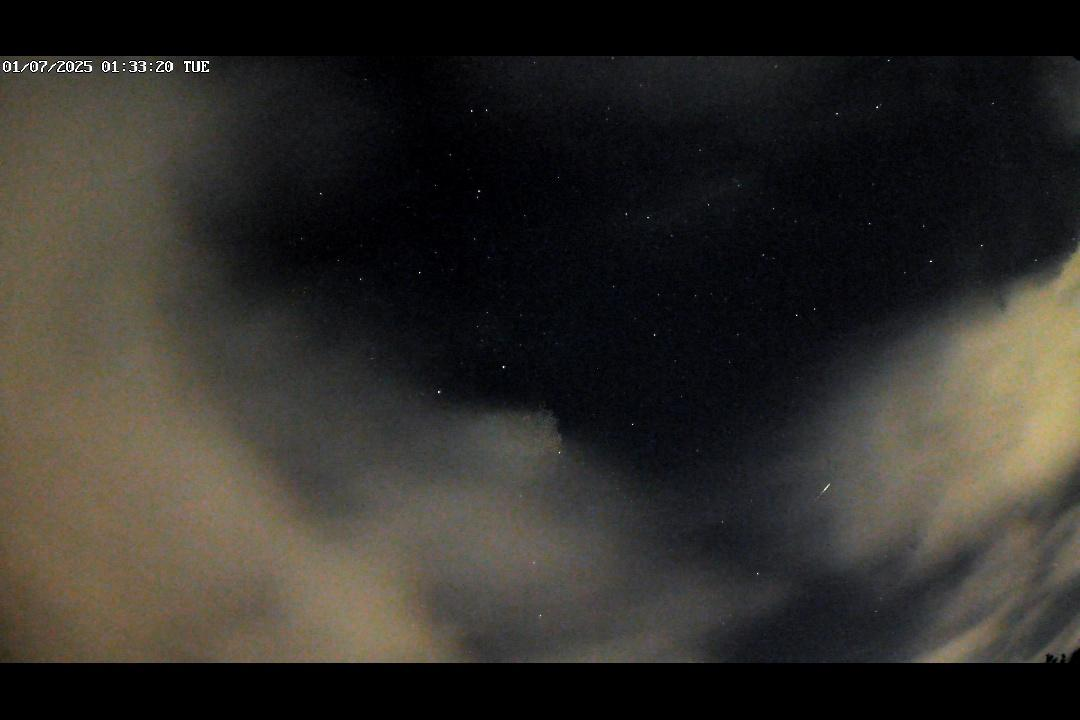meteorite: (809, 476, 840, 504)
